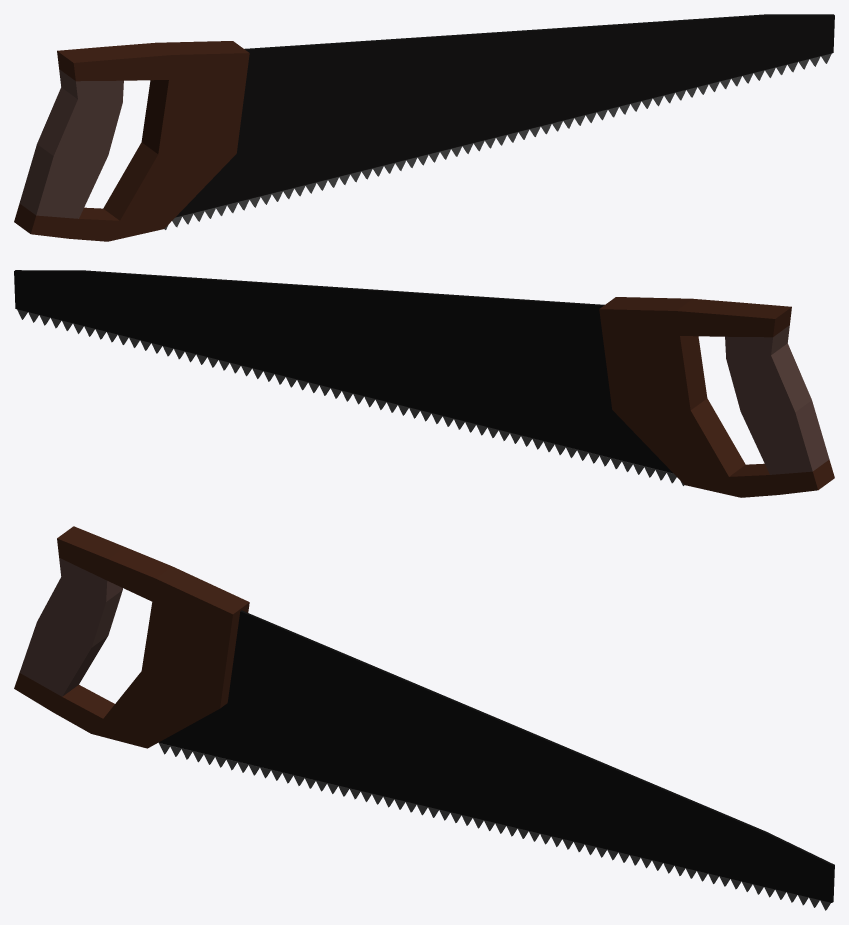
File: HandSaw.fbx
The picture shows the model from 3 angles, top to bottom: view 1: azimuth 30°, elevation 25°; view 2: azimuth 150°, elevation 25°; view 3: azimuth 330°, elevation 25°; orthographic projection.
Visible parts, largest first — view 1: Handsaw; view 2: Handsaw; view 3: Handsaw.
Part boxes in pixels (x1,y1,x2,y2): Handsaw: (14, 14, 834, 241); Handsaw: (14, 270, 834, 497); Handsaw: (14, 526, 834, 910).
Size of the model in its own units: 55.65 by 12.93 by 1.99.
